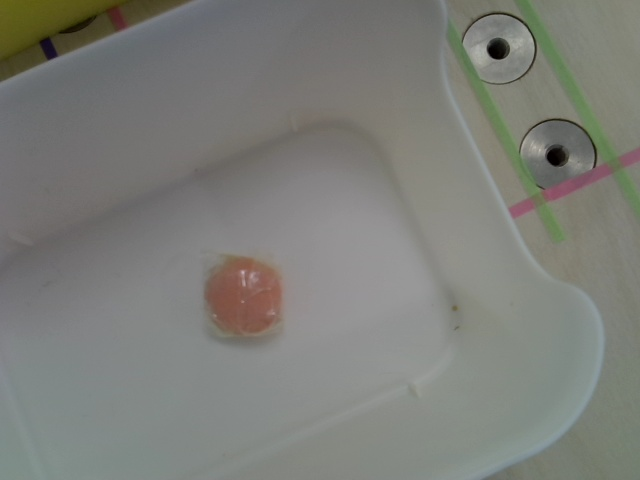씨앗: (204, 257, 287, 343)
